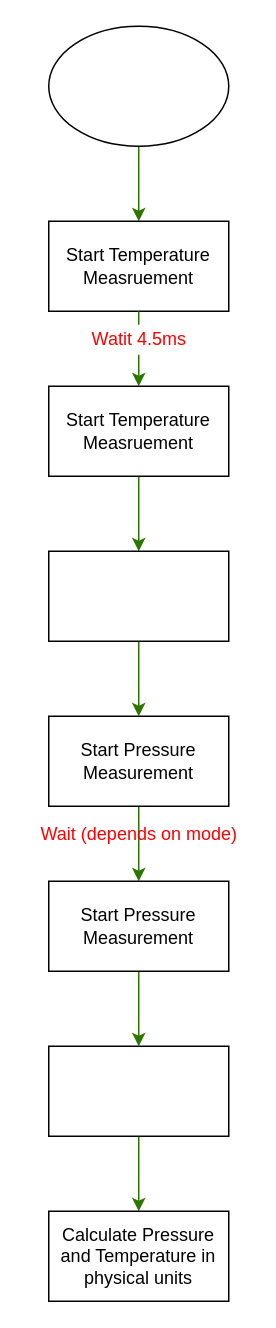
Some shapes in this 276 by 1328 pixel diagram are drawn without their labels. Each missing label, with the centre of its shape:
Read UP: (x=138, y=1090)
Read UT: (x=138, y=595)
START: (x=138, y=85)
